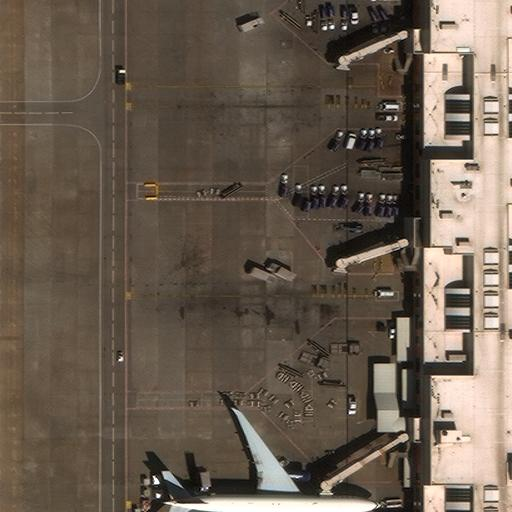Large Civil Transport: (163, 410, 381, 512)
